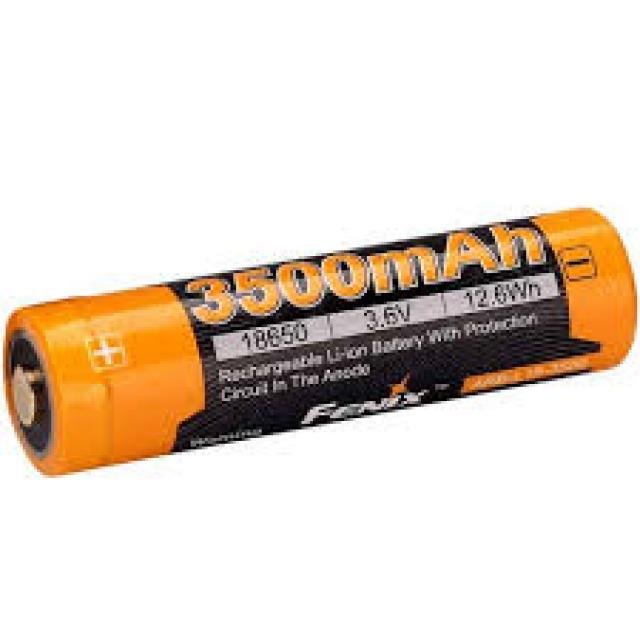battery: (5, 208, 636, 477)
